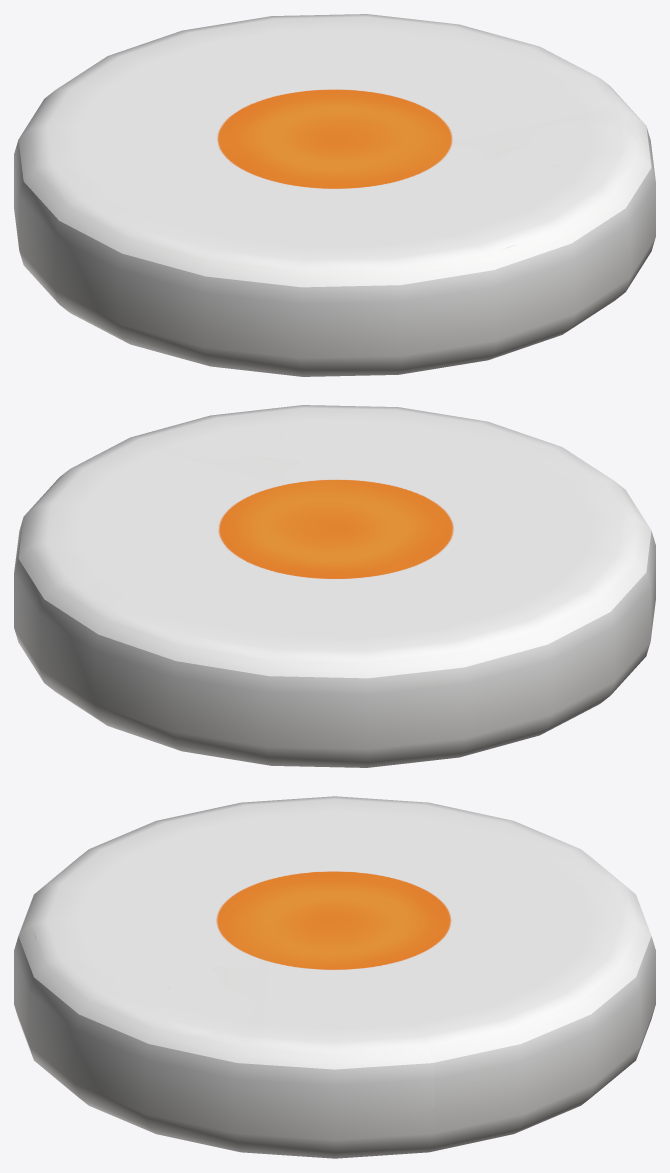
Rendered from MD_Egg.fbx.
3 renders of one model, top to bottom at view 1: azimuth 30°, elevation 25°; view 2: azimuth 150°, elevation 25°; view 3: azimuth 270°, elevation 25°, orthographic.
Visible parts, largest first — view 1: Egg; view 2: Egg; view 3: Egg.
Part boxes in pixels (left/top/right/bottom): Egg: left=14, top=14, right=655, bottom=376; Egg: left=14, top=405, right=655, bottom=767; Egg: left=14, top=796, right=655, bottom=1158.
Bounding box in the file's own units: 2 × 0.3887 × 2.
